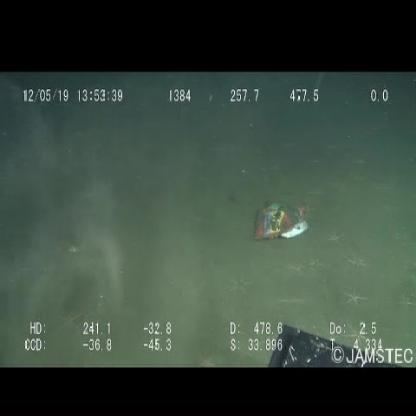Rác: (252, 195, 311, 246)
